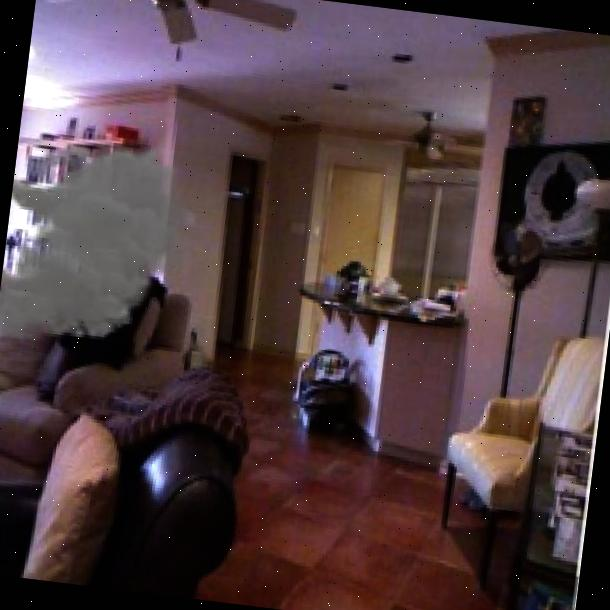smoke: (0, 131, 210, 361)
